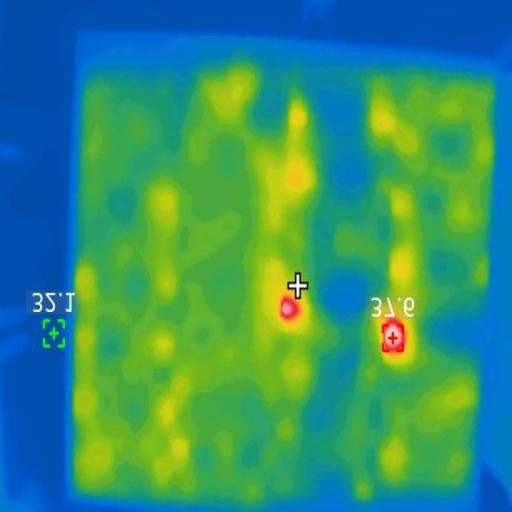hotspot: (380, 319, 408, 355), (278, 298, 304, 322)
